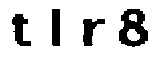8: (116, 6, 149, 50)
l: (47, 6, 66, 51)
r: (80, 14, 105, 49)
t: (6, 11, 36, 50)
